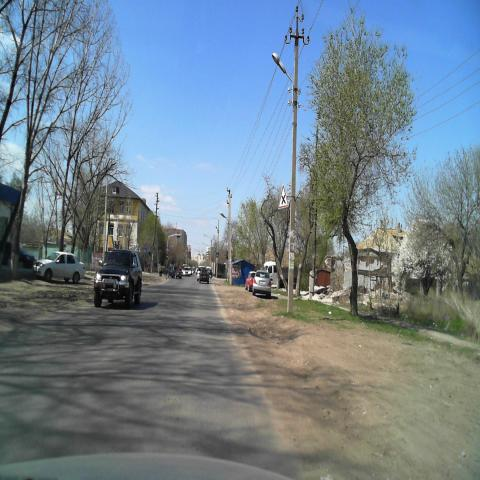1_6: (278, 183, 289, 209)
